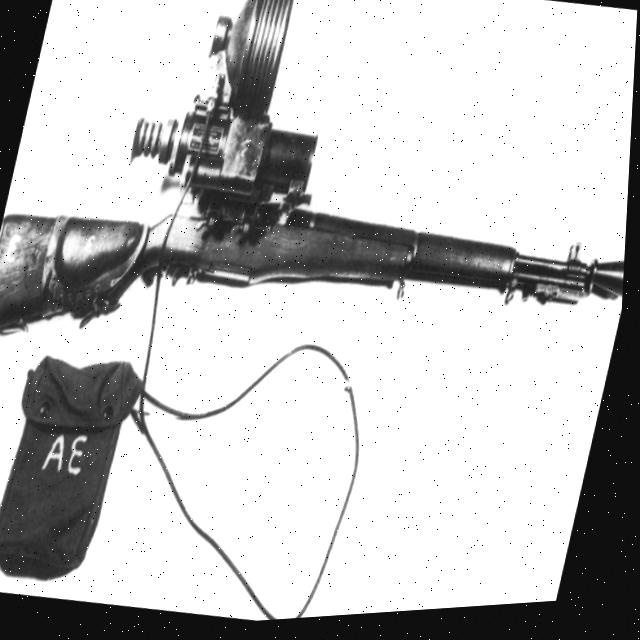firearm: (0, 0, 640, 444)
